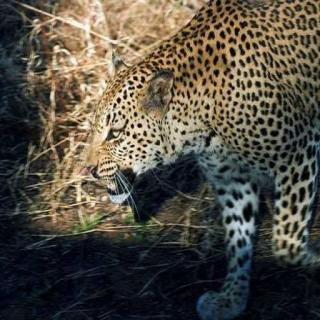Leopard: (87, 1, 320, 320)
